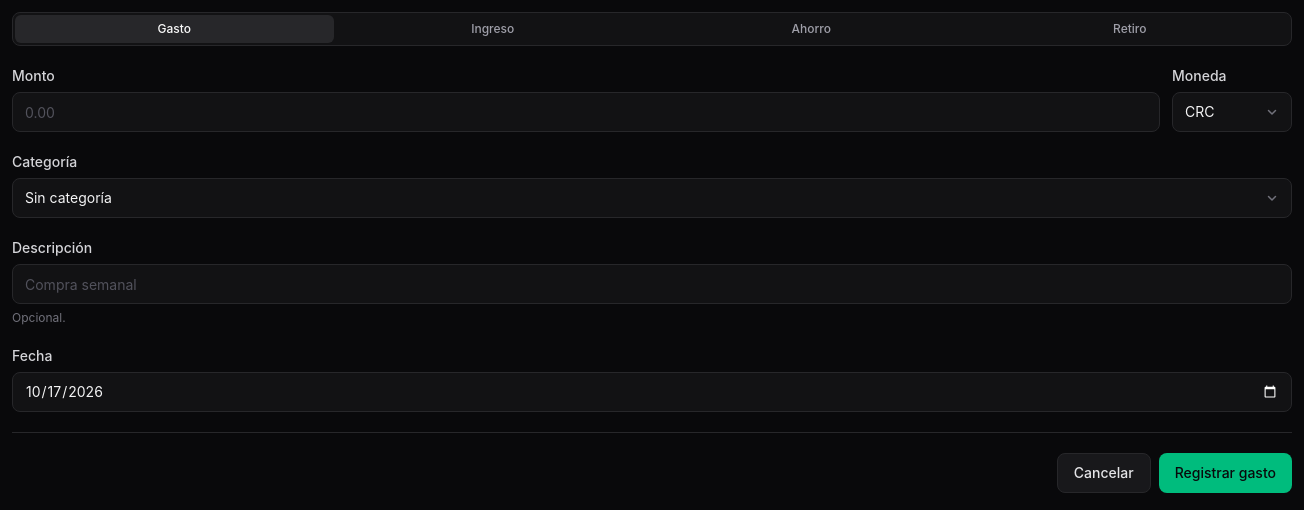
Scenario: TransactionForm › solo ofrece categorías del tipo elegido
Click the button "Ingreso": (493, 29) [334,15,652,43]
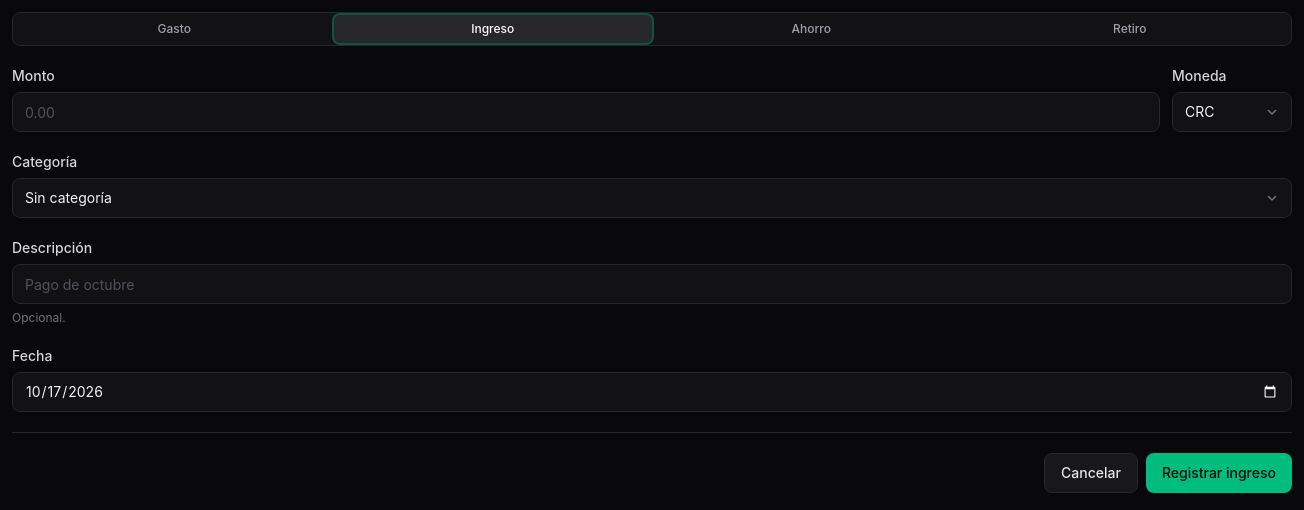
expect the button "Registrar ingreso" is shown: met, box [1146,453,1292,493]
